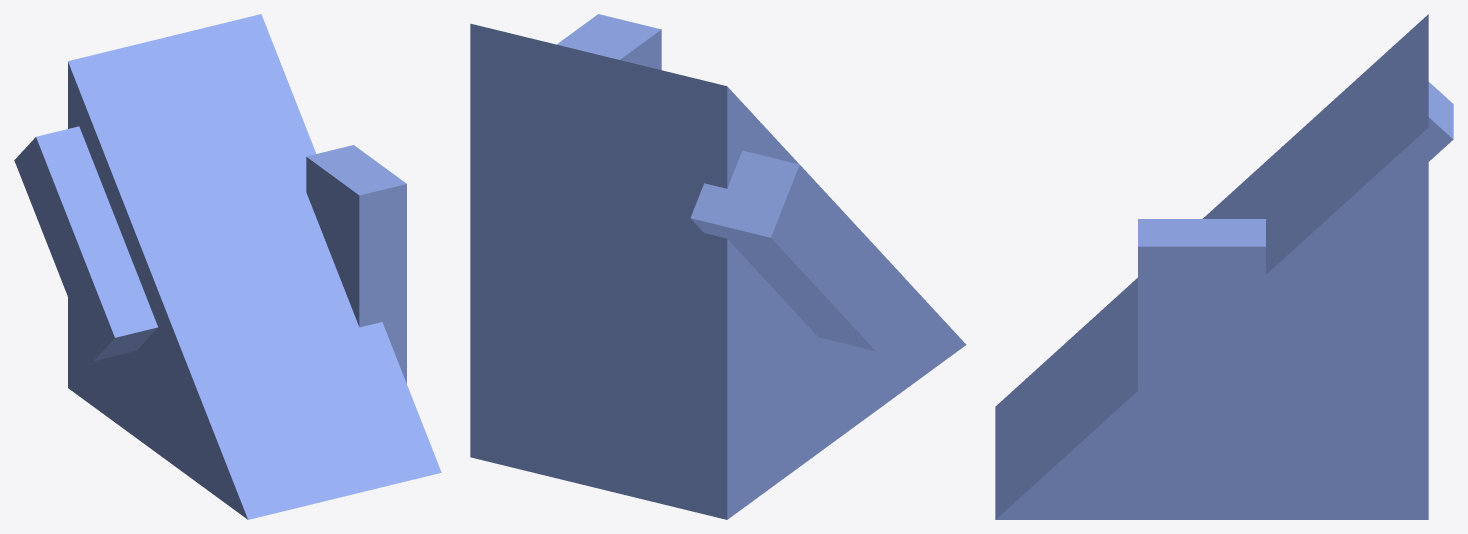
Rendered from ramp.fbx.
3 views of the same model, side by side, from view 1: azimuth 30°, elevation 25°; view 2: azimuth 150°, elevation 25°; view 3: azimuth 270°, elevation 25° (orthographic). The views are drawn at different scales.
Visible parts, largest first — view 1: Cube.024, Cube.026, Cube.025; view 2: Cube.024, Cube.026, Cube.025; view 3: Cube.024, Cube.025, Cube.026.
Part boxes in pixels (x1=…): Cube.024: x1=68, y1=14, x2=441, y2=519; Cube.026: x1=14, y1=126, x2=157, y2=361; Cube.025: x1=306, y1=145, x2=406, y2=383; Cube.024: x1=470, y1=23, x2=966, y2=519; Cube.026: x1=690, y1=150, x2=904, y2=350; Cube.025: x1=557, y1=14, x2=661, y2=69; Cube.024: x1=995, y1=14, x2=1428, y2=519; Cube.025: x1=1138, y1=219, x2=1265, y2=492; Cube.026: x1=1428, y1=82, x2=1453, y2=161.
Size of the model in its own units: 81.12 by 96.9 by 102.
